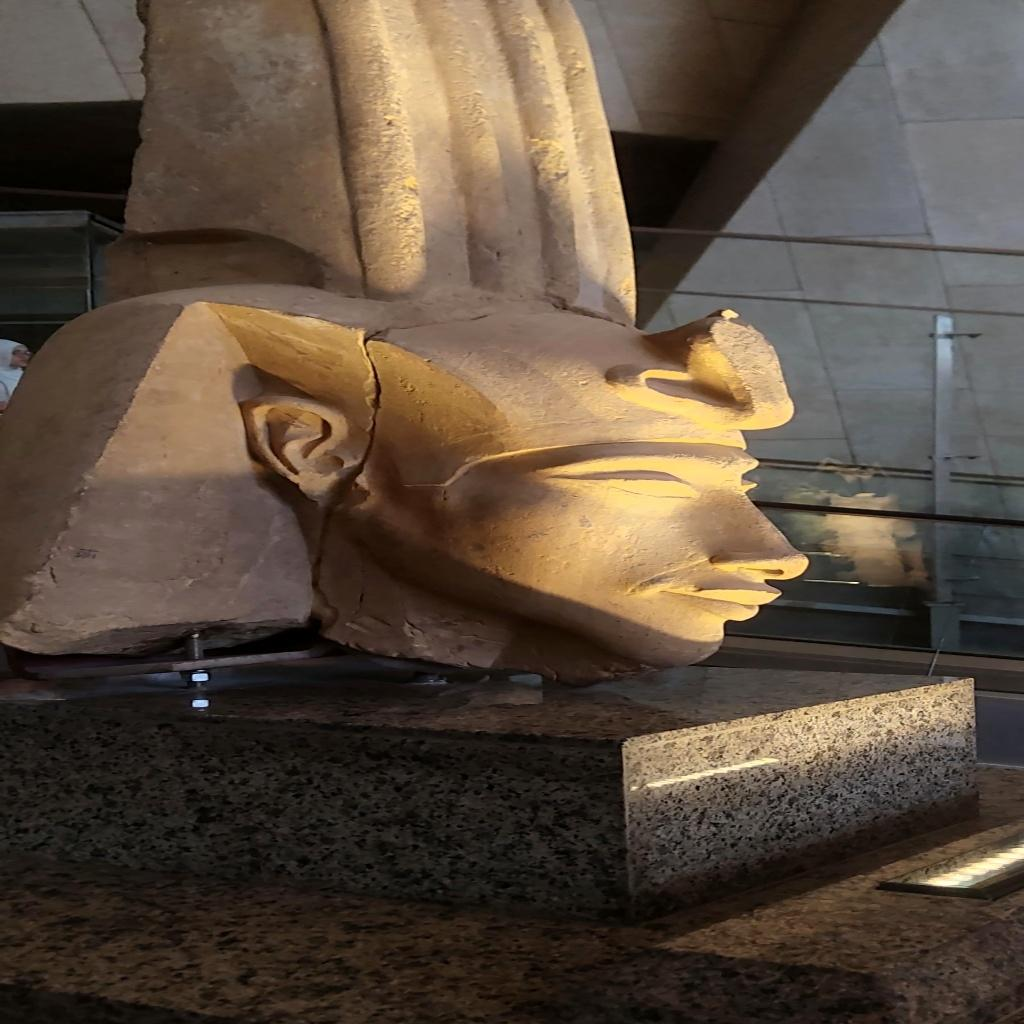Statue Head of Akhenaten: (7, 282, 819, 688)
